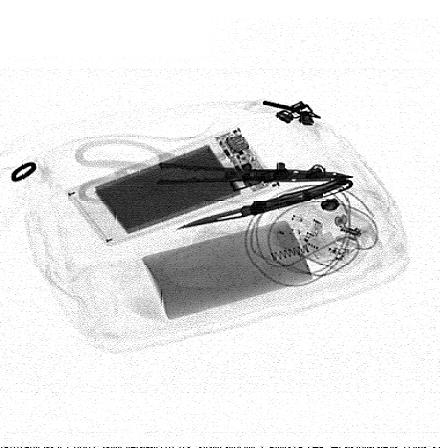Knife: (175, 176, 358, 229)
Powerbank: (64, 124, 280, 246)
Scissors: (74, 139, 355, 206)
